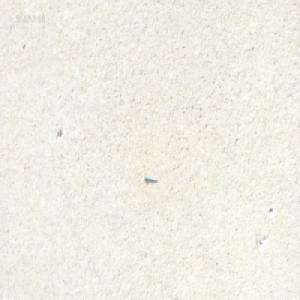Nail: (144, 174, 156, 182)
